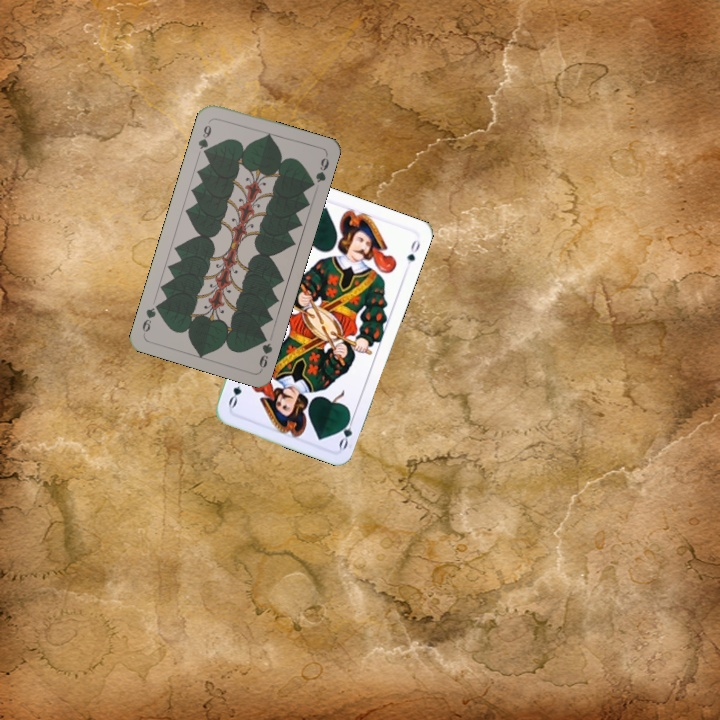G9: (194, 116, 214, 158), (255, 330, 275, 372)
GO: (335, 411, 357, 452)
